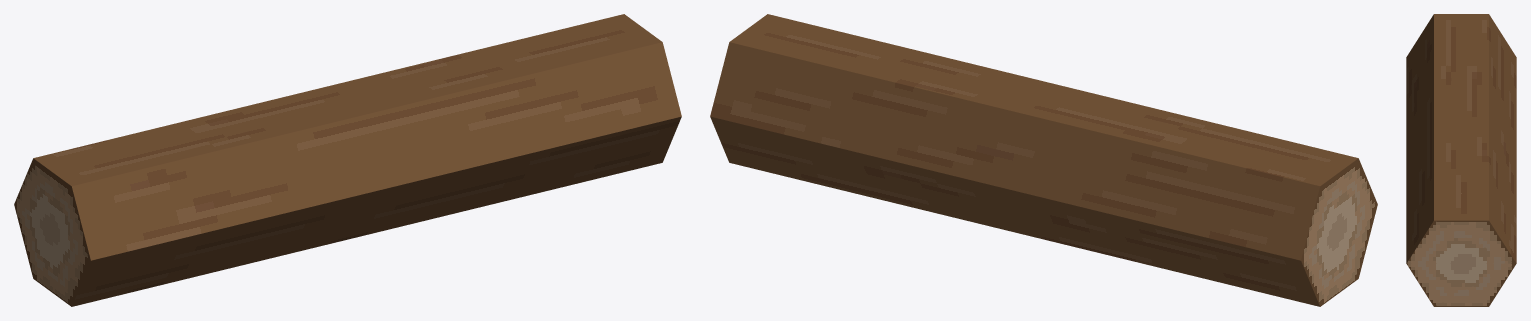
File: Log.fbx
The picture shows the model from 3 angles, left to right: view 1: azimuth 30°, elevation 25°; view 2: azimuth 150°, elevation 25°; view 3: azimuth 270°, elevation 25°; orthographic projection. The views are drawn at different scales.
Visible parts, largest first — view 1: Cylinder; view 2: Cylinder; view 3: Cylinder.
Boxes of the visible parts, x1,y1,x2,y2 form: Cylinder: (14,14,681,306); Cylinder: (710,14,1377,306); Cylinder: (1406,14,1516,306).
Size of the model in its own units: 266 by 51.96 by 60.
